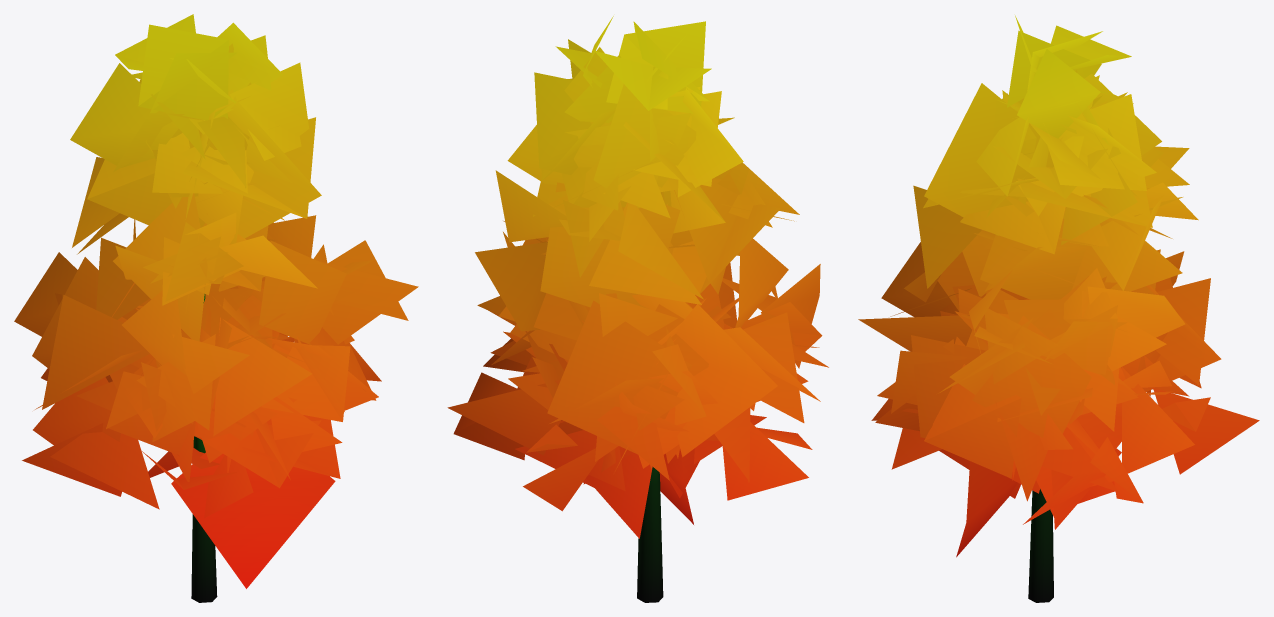
Rendered from medium_tree_lod1.obj.
3 views of the same model, side by side, from view 1: azimuth 30°, elevation 25°; view 2: azimuth 150°, elevation 25°; view 3: azimuth 270°, elevation 25° (orthographic). The views are drawn at different scales.
Visible parts, largest first — view 1: MediumTreeLoD1; view 2: MediumTreeLoD1; view 3: MediumTreeLoD1.
Boxes of the visible parts, x1,y1,x2,y2 form: MediumTreeLoD1: (14,14,418,602); MediumTreeLoD1: (447,16,828,602); MediumTreeLoD1: (858,15,1259,602).
Bounding box in the file's own units: 17.53 × 27.86 × 17.95.
